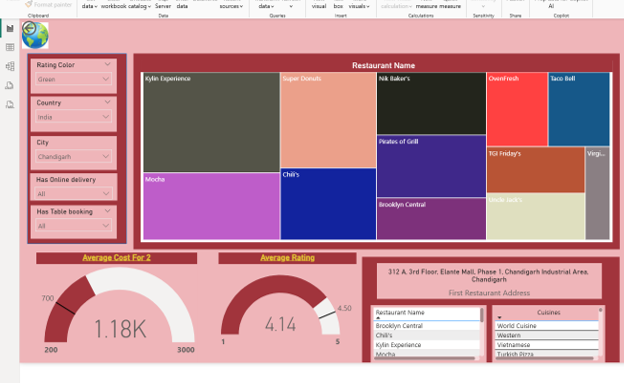

Layout of this report page (visuals, bound fields, positions):
{"tool":"powerbi","page":{"name":"Page 2","canvas":[1280,720],"ordinal":1},"visuals":[{"type":"textbox","box":[715.4,498.6,537.6,220.8],"z":0},{"type":"shape","box":[16.1,72.5,207.8,398.5],"z":1000},{"type":"treemap","title":" Restaurant Name","fields":{"Group":["Restaurants.Restaurant Name"],"Values":["CountNonNull(Restaurant_Cuisines.Cuisine_ID)"]},"box":[238.2,72.5,1015.5,410.1],"z":2000},{"type":"slicer","fields":{"Values":["Country Master.Country"]},"box":[23.3,163,180,74.3],"z":3000},{"type":"slicer","fields":{"Values":["KPIs.Rating Color"]},"box":[23.3,84.2,180,72.5],"z":4000},{"type":"slicer","fields":{"Values":["Restaurants.City"]},"box":[23.3,245.4,180,70.7],"z":5000},{"type":"gauge","title":"Average Cost For 2","fields":{"MinValue":["  Measures.Min Avg Cost"],"MaxValue":["  Measures.Max Avg Cost"],"Y":["  Measures.Average Cost"],"TargetValue":["  Measures.Target Avg Cost"]},"box":[34.9,489.9,335.8,230.1],"z":6000},{"type":"gauge","title":"Average Rating","fields":{"MinValue":["  Measures.Min Rating"],"MaxValue":["  Measures.Max Rating"],"TargetValue":["  Measures.Target Rating"],"Y":["  Measures.Average Rating"]},"box":[415.5,489.9,288.4,230.1],"z":7000},{"type":"image","box":[0,0,65.4,71.6],"z":8000},{"type":"card","fields":{"Values":["Min(Restaurants.Restaurant Address)"]},"box":[746.4,511.6,469.6,74.9],"z":9000},{"type":"tableEx","fields":{"Values":["Restaurants.Restaurant Name"]},"box":[733.4,599.1,241.8,120.9],"z":10000},{"type":"actionButton","box":[0,0,100,40],"z":11000},{"type":"tableEx","fields":{"Values":["Cuisine Table.Cuisines"]},"box":[986.9,599.1,235.5,120.9],"z":12000},{"type":"slicer","fields":{"Values":["KPIs.Has Online delivery"]},"box":[21.5,324.2,181.8,57.3],"z":13000},{"type":"slicer","fields":{"Values":["KPIs.Has Table booking"]},"box":[23.3,390.4,180,69.9],"z":14000}]}

Visuals, with their boxes on the page's 1280x720 design canvas (x1, y1, x2, y2). These are canvas units, not pixel positions in the 624x383 screenshot, which may show the page scaled, cropped or inside an application window:
textbox: rect(715, 499, 1253, 719)
shape: rect(16, 72, 224, 471)
" Restaurant Name" treemap: rect(238, 72, 1254, 483)
slicer - Country Master.Country: rect(23, 163, 203, 237)
slicer - KPIs.Rating Color: rect(23, 84, 203, 157)
slicer - Restaurants.City: rect(23, 245, 203, 316)
"Average Cost For 2" gauge: rect(35, 490, 371, 720)
"Average Rating" gauge: rect(416, 490, 704, 720)
image: rect(0, 0, 65, 72)
card - Min(Restaurants.Restaurant Address): rect(746, 512, 1216, 586)
tableEx - Restaurants.Restaurant Name: rect(733, 599, 975, 720)
actionButton: rect(0, 0, 100, 40)
tableEx - Cuisine Table.Cuisines: rect(987, 599, 1222, 720)
slicer - KPIs.Has Online delivery: rect(22, 324, 203, 382)
slicer - KPIs.Has Table booking: rect(23, 390, 203, 460)
